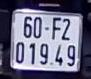0: (14, 41, 25, 65), (33, 17, 44, 40)
1: (28, 42, 37, 66)
2: (61, 16, 74, 42)
4: (53, 43, 65, 68)
6: (21, 14, 33, 40)
9: (65, 44, 78, 68), (39, 42, 50, 67)
F: (50, 15, 62, 41)
